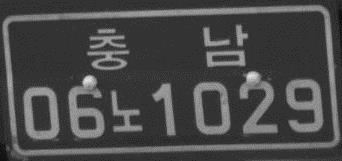0: (21, 84, 61, 142), (192, 79, 232, 137)
1: (152, 80, 177, 138)
2: (238, 78, 281, 136)
6: (67, 83, 106, 140)
9: (283, 77, 325, 133)
노: (108, 88, 144, 135)
충남_D: (86, 23, 250, 73)
